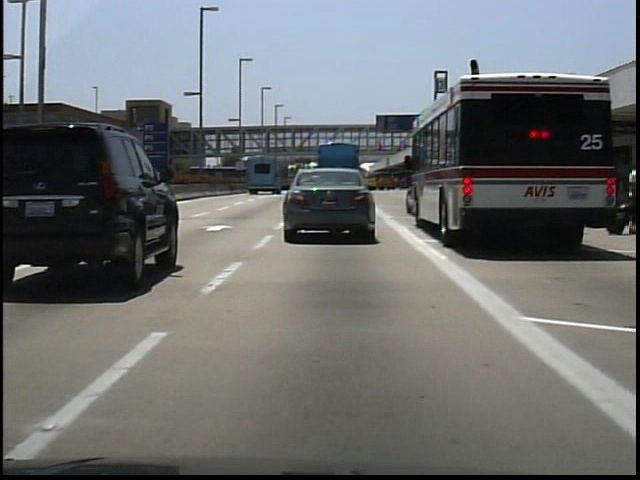person: (618, 151, 640, 238), (400, 136, 414, 158), (375, 137, 388, 157)
